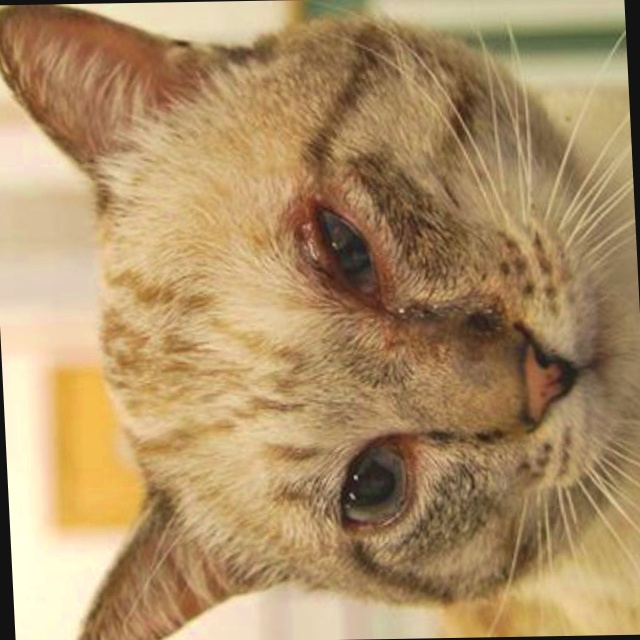eye_infection: (326, 429, 421, 539), (302, 198, 391, 310)
